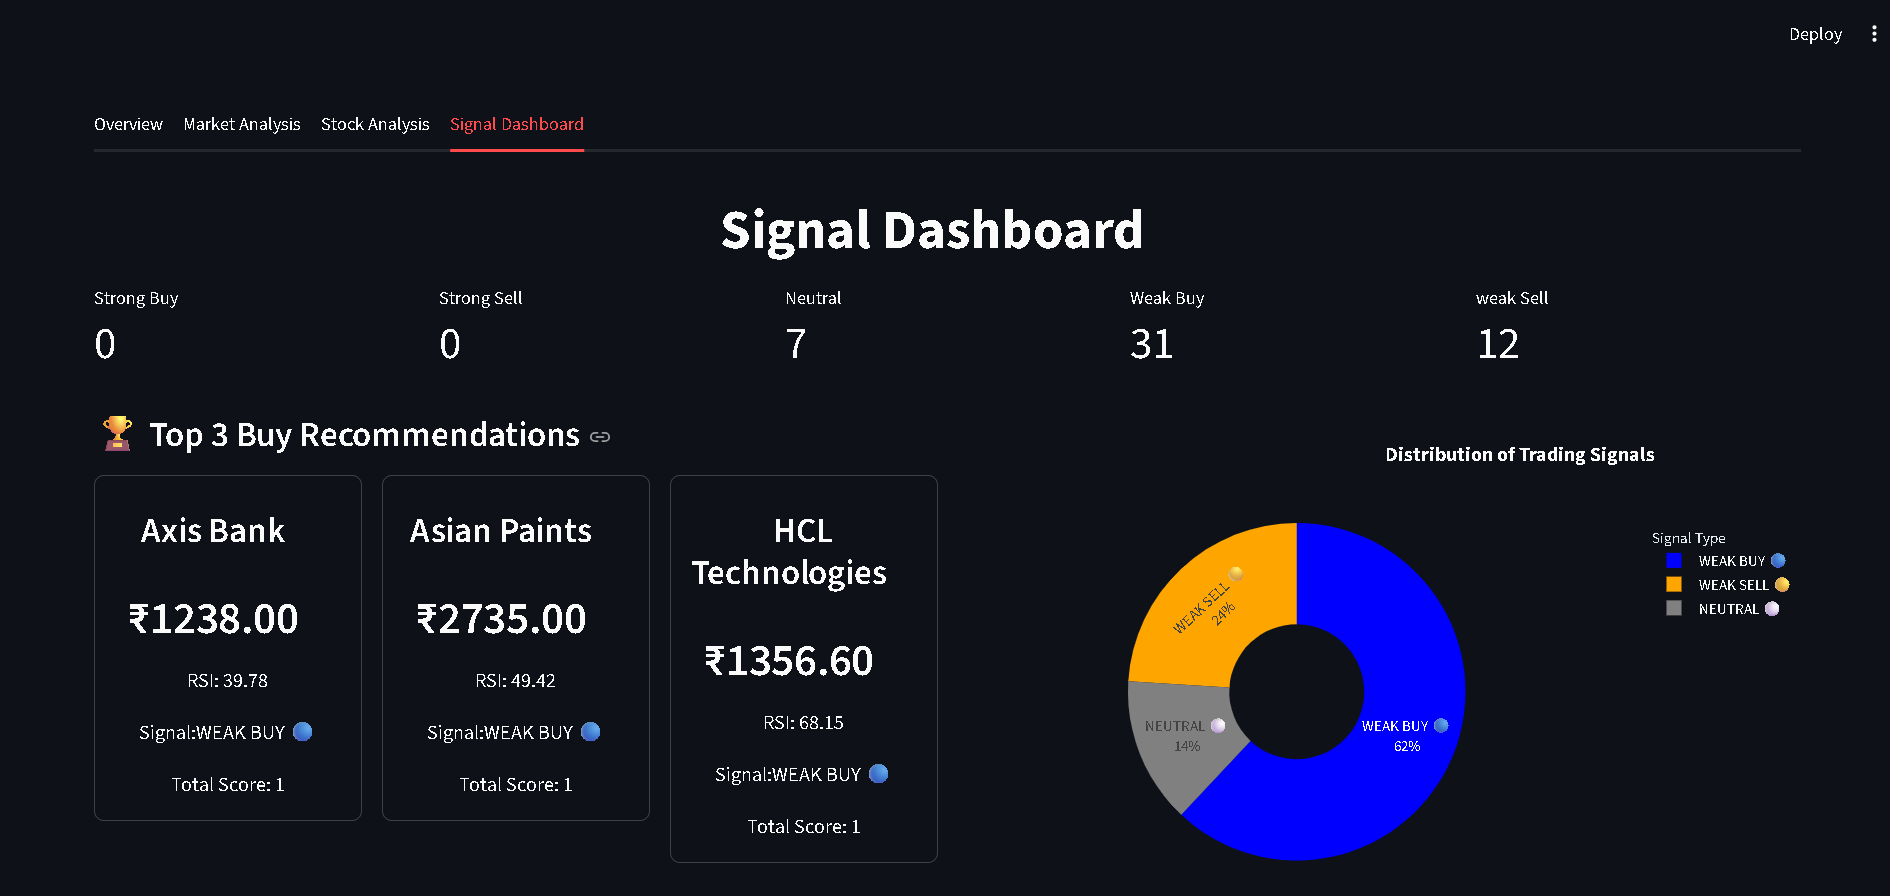

What the dashboard file says about the page in this screenshot:
{"tool":"powerbi","page":{"name":"signal Dashboard","canvas":[1280,720],"ordinal":3},"visuals":[{"type":"textbox","box":[478.8,0,322.5,58.8],"z":0},{"type":"cardVisual","fields":{"Data":["CurrentSignal.Weak Sell"]},"box":[776.7,78.5,227,126.4],"z":1000},{"type":"cardVisual","fields":{"Data":["CurrentSignal.Weak Buy"]},"box":[289.6,74.8,217.2,126.4],"z":2000},{"type":"cardVisual","fields":{"Data":["CurrentSignal.Strong Buy"]},"box":[39.3,73.6,217.2,126.4],"z":3000},{"type":"cardVisual","fields":{"Data":["CurrentSignal.Neutral"]},"box":[532.5,77.3,217.2,126.4],"z":4000},{"type":"cardVisual","fields":{"Data":["CurrentSignal.Strong Sell"]},"box":[1025.8,78.5,217.2,126.4],"z":5000},{"type":"slicer","fields":{"Values":["CurrentSignal.final_signal"]},"box":[39.8,220.9,1203.4,89.2],"z":6000},{"type":"tableEx","fields":{"Values":["CurrentSignal.Ticker","StockData.Company","StockData.Sector","StockData.Current Price","CurrentSignal.RSI","CurrentSignal.rsi_score","CurrentSignal.macd_score","CurrentSignal.bb_score","CurrentSignal.total_score","CurrentSignal.final_signal"]},"box":[39.8,323.8,1203.4,325.2],"z":7000},{"type":"textbox","box":[252.5,660,882.3,46.7],"z":8000}]}

Visuals, with their boxes on the page's 1280x720 design canvas (x1, y1, x2, y2). These are canvas units, not pixel positions in the 1890x896 screenshot, which may show the page scaled, cropped or inside an application window:
textbox: 479 0 801 59
cardVisual - CurrentSignal.Weak Sell: 777 78 1004 205
cardVisual - CurrentSignal.Weak Buy: 290 75 507 201
cardVisual - CurrentSignal.Strong Buy: 39 74 256 200
cardVisual - CurrentSignal.Neutral: 532 77 750 204
cardVisual - CurrentSignal.Strong Sell: 1026 78 1243 205
slicer - CurrentSignal.final_signal: 40 221 1243 310
tableEx - CurrentSignal.Ticker x StockData.Company: 40 324 1243 649
textbox: 252 660 1135 707
